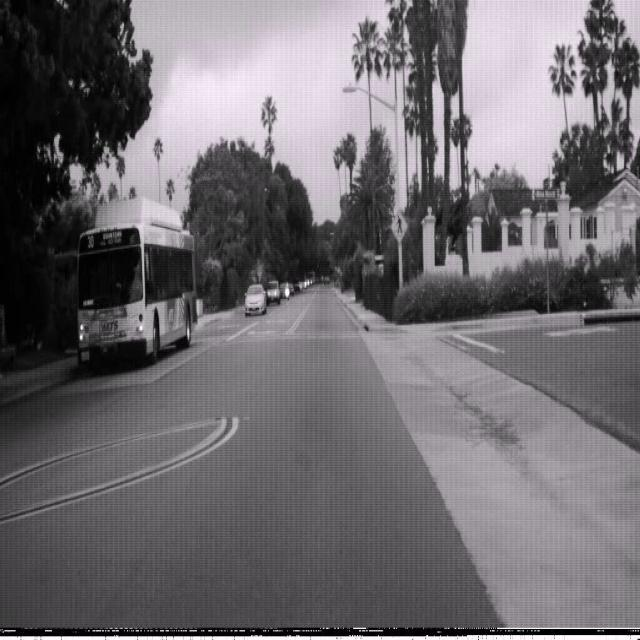pedestrianCrossing: (389, 207, 408, 244)
